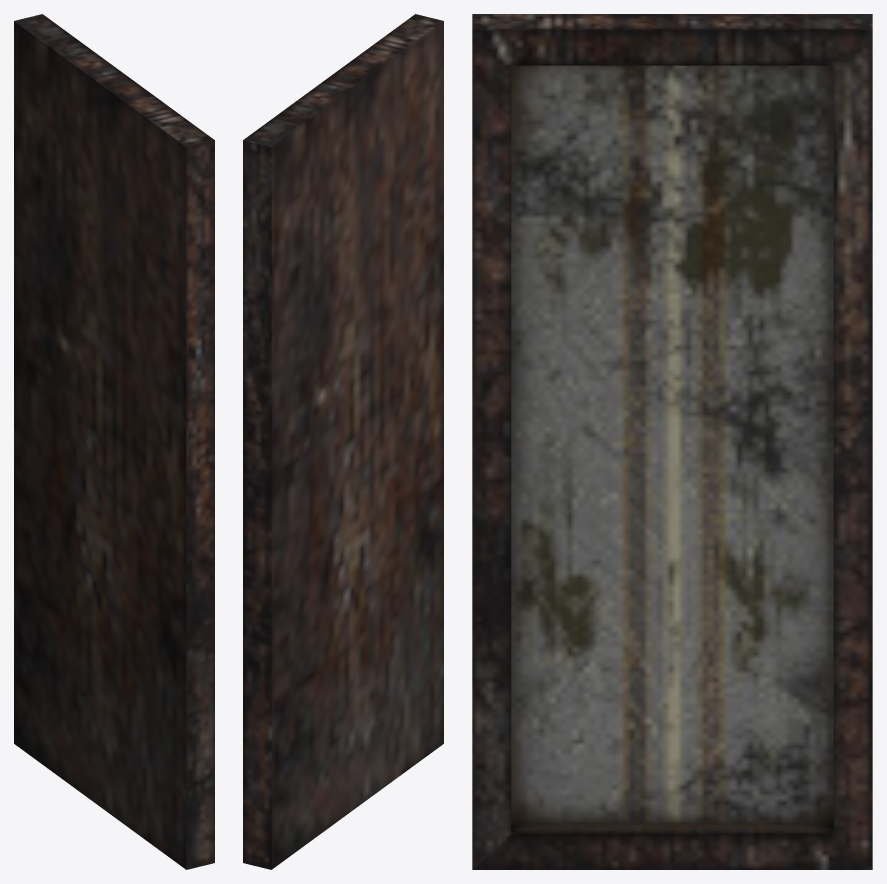
Rendered from Frame_09.FBX.
3 renders of one model, left to right at view 1: azimuth 30°, elevation 25°; view 2: azimuth 150°, elevation 25°; view 3: azimuth 270°, elevation 25°, orthographic. The views are drawn at different scales.
Parts seen in each view (by area): view 1: Frame_09; view 2: Frame_09; view 3: Frame_09.
Boxes of the visible parts, x1,y1,x2,y2 form: Frame_09: [14, 14, 214, 869]; Frame_09: [243, 14, 443, 869]; Frame_09: [472, 14, 872, 869].
Bounding box in the file's own units: 4.56 × 110 × 47.77.
